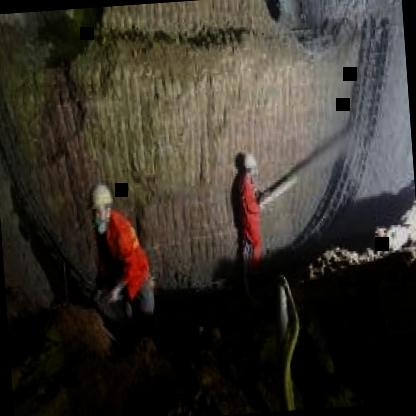helmet: (86, 182, 117, 235)
